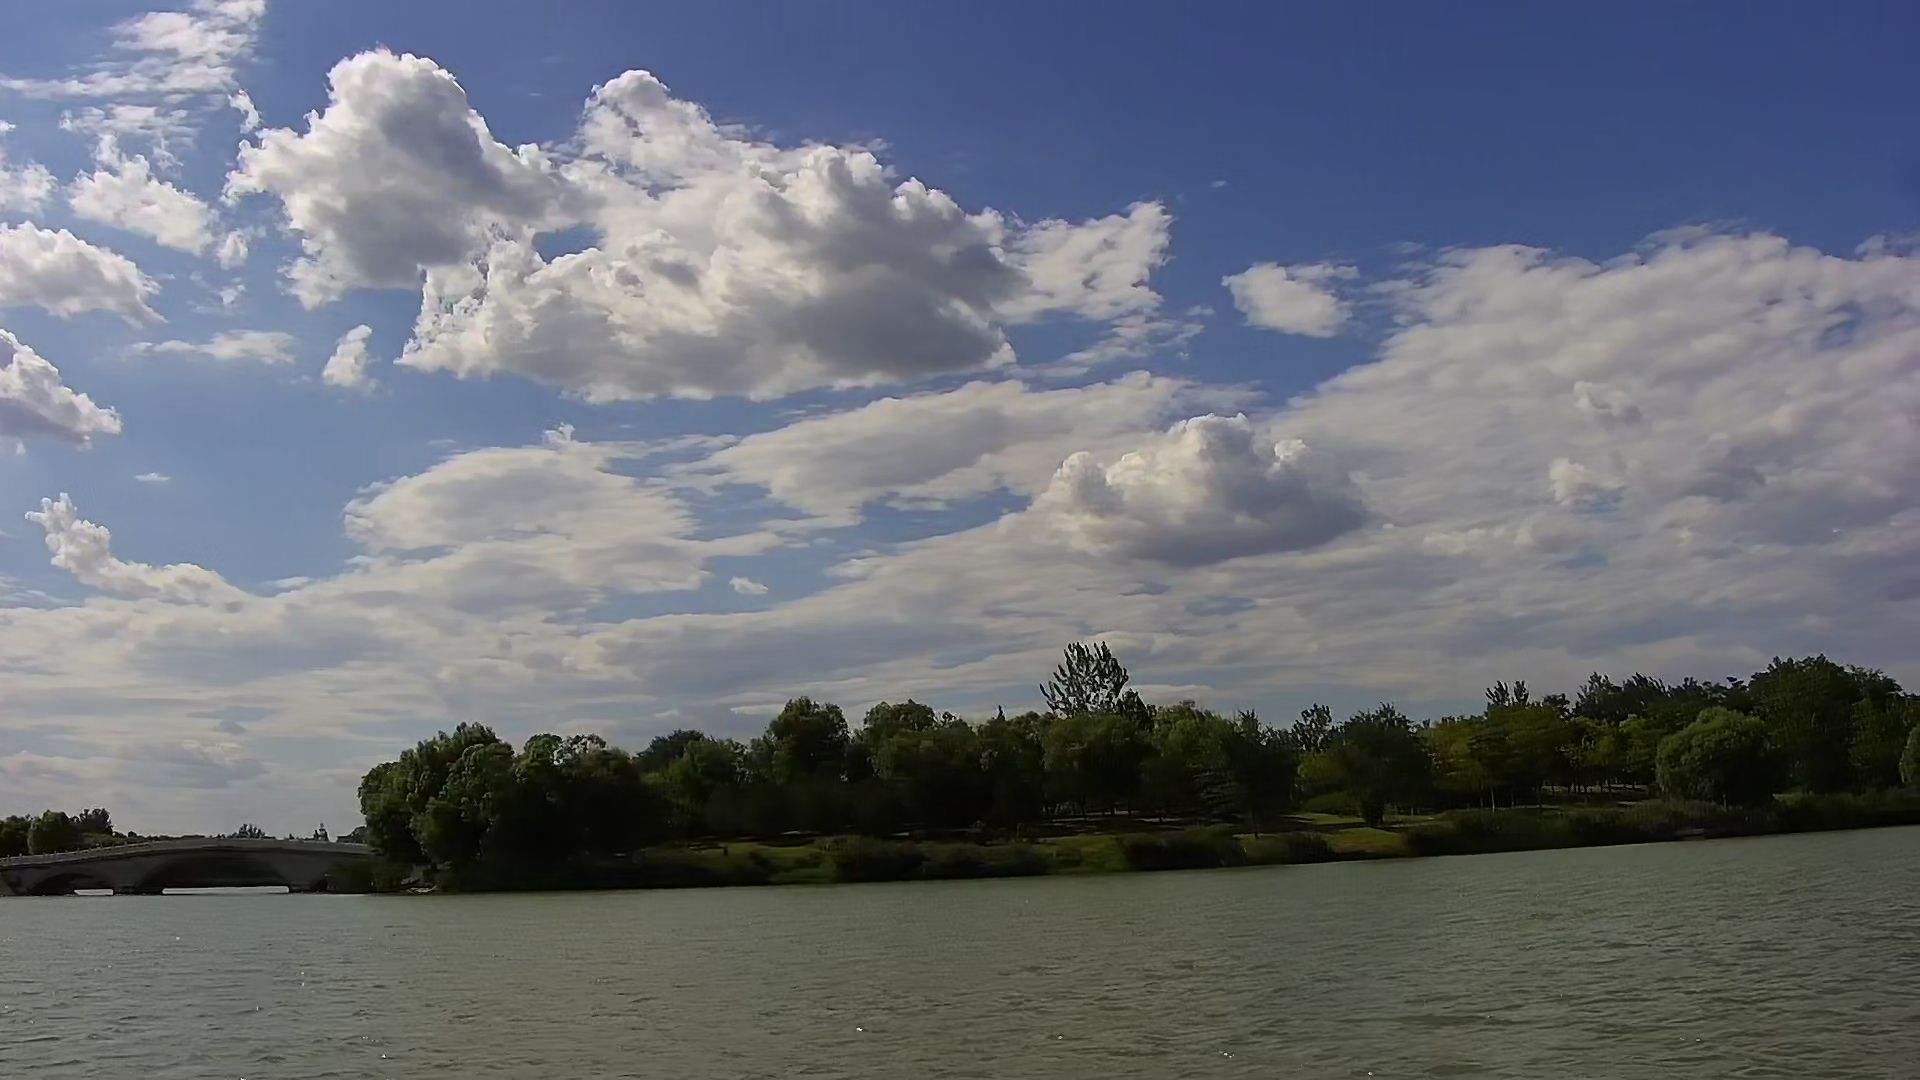bridge: (7, 837, 367, 894)
